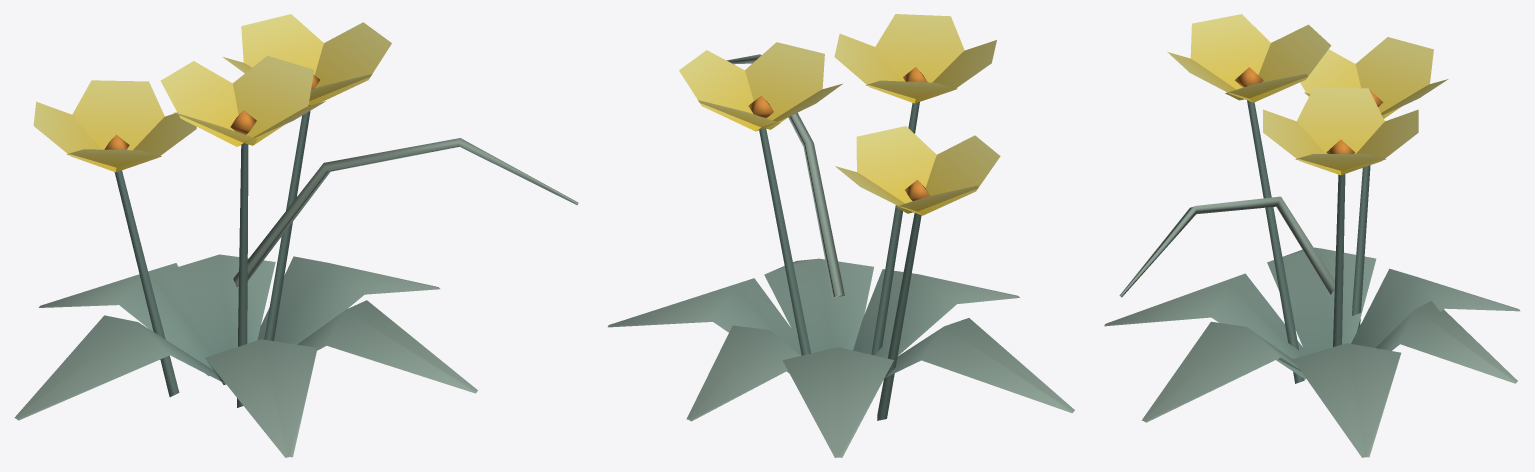
Rendered from seapoppy.glb.
3 renders of one model, left to right at view 1: azimuth 30°, elevation 25°; view 2: azimuth 150°, elevation 25°; view 3: azimuth 270°, elevation 25°, orthographic. The views are drawn at different scales.
Parts seen in each view (by area): view 1: seapoppy; view 2: seapoppy; view 3: seapoppy.
Part boxes in pixels (bbox=[...]): seapoppy: bbox=[14, 14, 578, 457]; seapoppy: bbox=[608, 14, 1074, 457]; seapoppy: bbox=[1104, 14, 1520, 457].
Bounding box in the file's own units: 0.5573 × 0.3898 × 0.4549.
